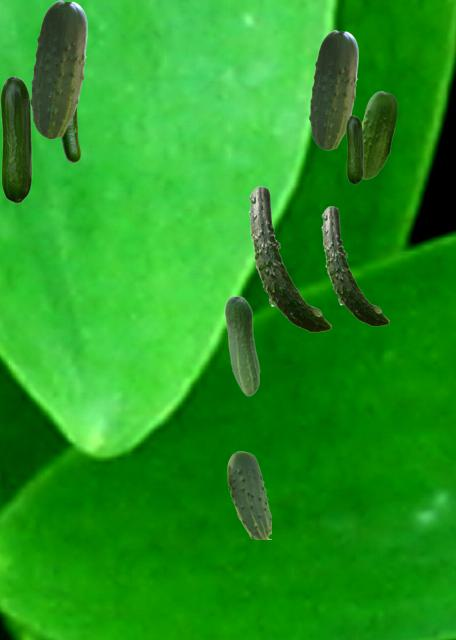cucumber: (248, 186, 330, 331), (321, 206, 388, 325), (30, 0, 86, 138), (309, 30, 357, 149), (0, 76, 31, 202), (227, 451, 270, 538), (224, 295, 259, 395), (362, 91, 396, 178), (346, 115, 362, 183), (61, 108, 79, 161)
